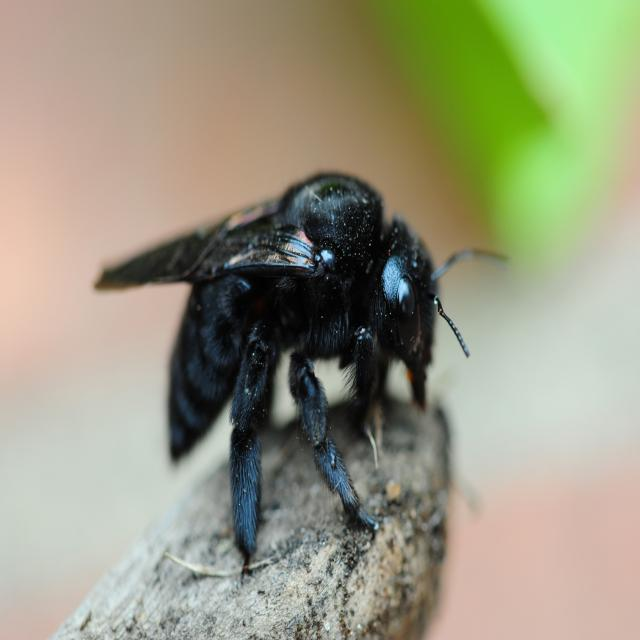Xylocopa: (90, 147, 514, 572)
